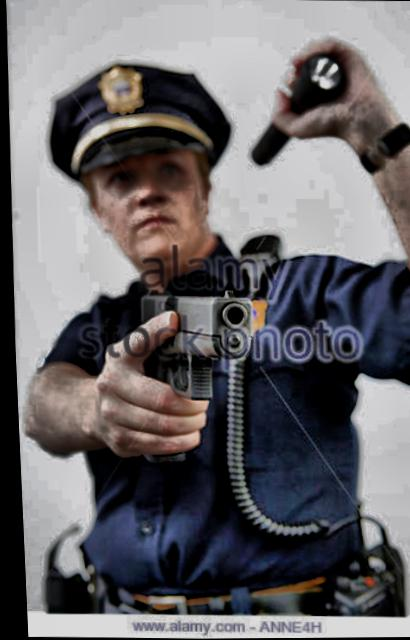pistol: (128, 283, 256, 466)
